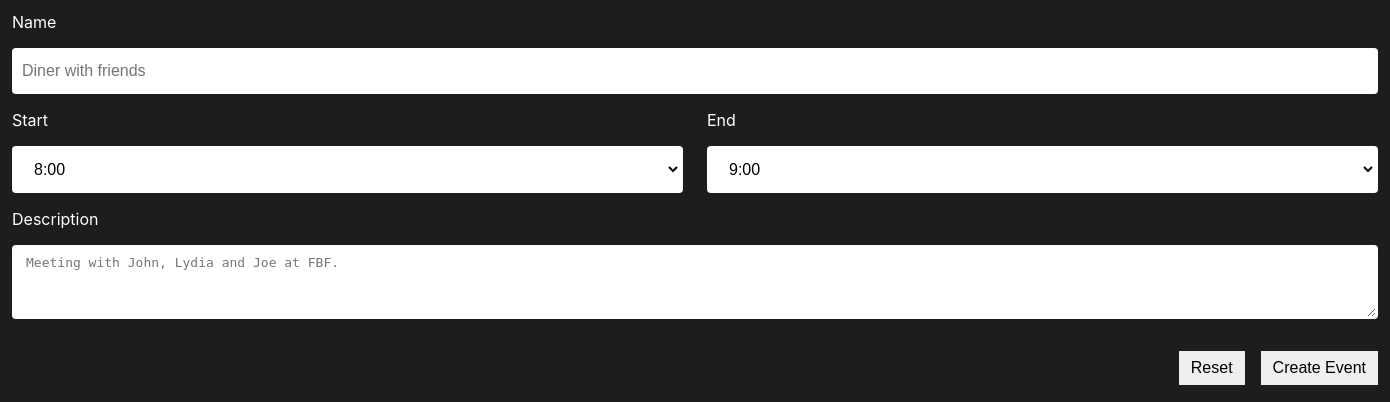
Event Creation Form › Reset button clears inputs
Type "Hello" into the field with placeholder "Diner with friends" at (695, 71), box [12,48,1378,94]
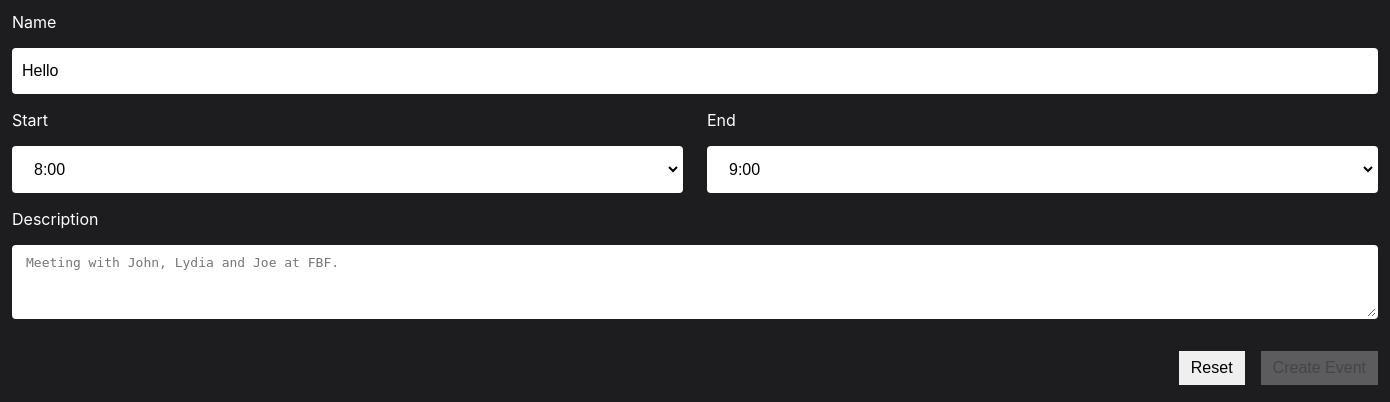
Type "World" into the text box with placeholder "Meeting with John, Lydia and Joe at FBF." at (695, 282), box [12,245,1378,319]
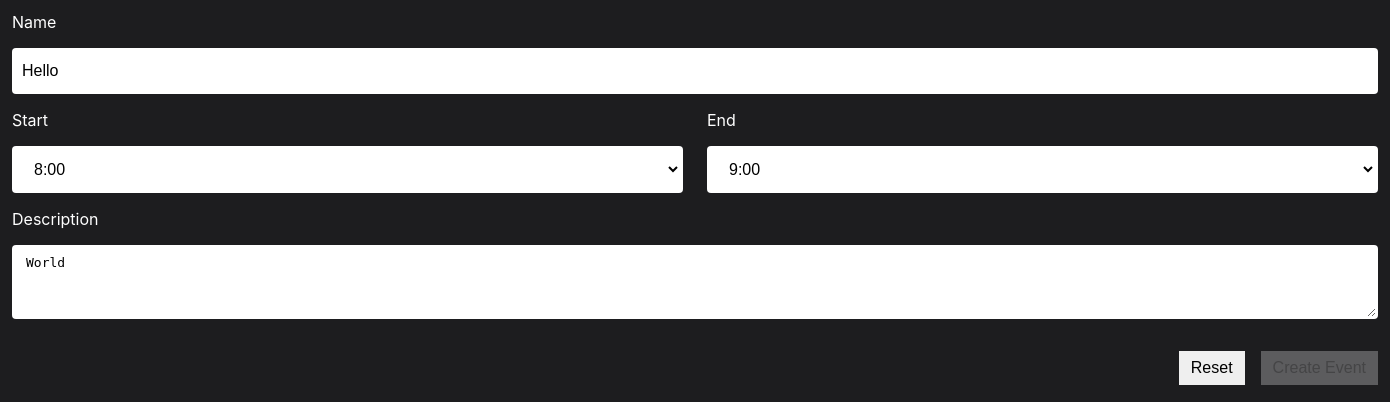
Click the button "Reset" at (1212, 368), box [1179,351,1245,385]
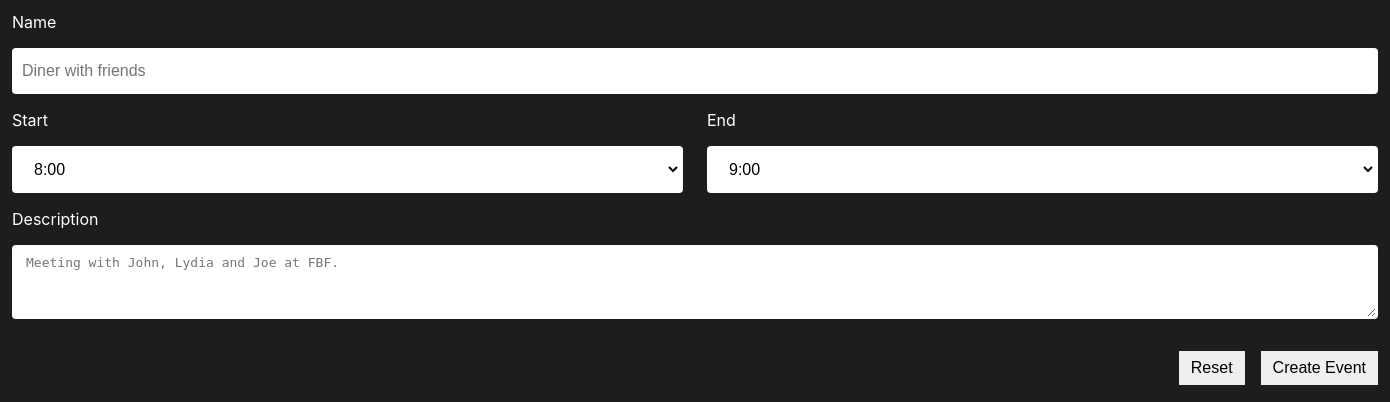
Expected: the field with placeholder "Diner with friends" is empty, [12,48,1378,94]
Expected: the text box with placeholder "Meeting with John, Lydia and Joe at FBF." is empty, [12,245,1378,319]
